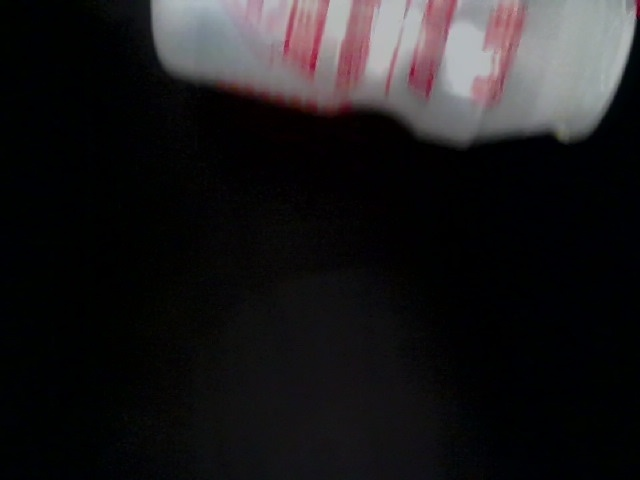CYLJ: (26, 211, 367, 473)
